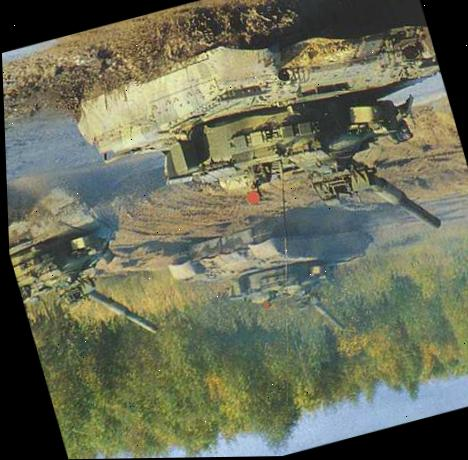tank: (53, 0, 468, 312), (157, 188, 399, 372), (6, 167, 159, 364)
